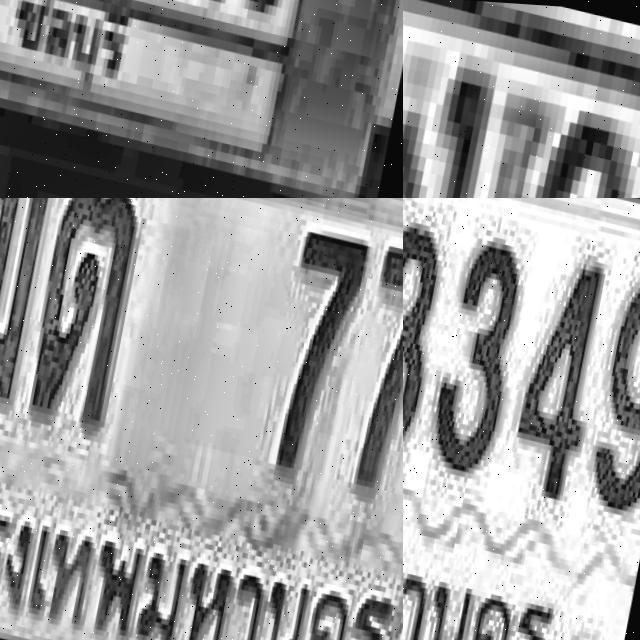license-plate: (0, 198, 403, 640), (403, 198, 640, 640), (0, 0, 403, 198), (403, 0, 640, 198)
